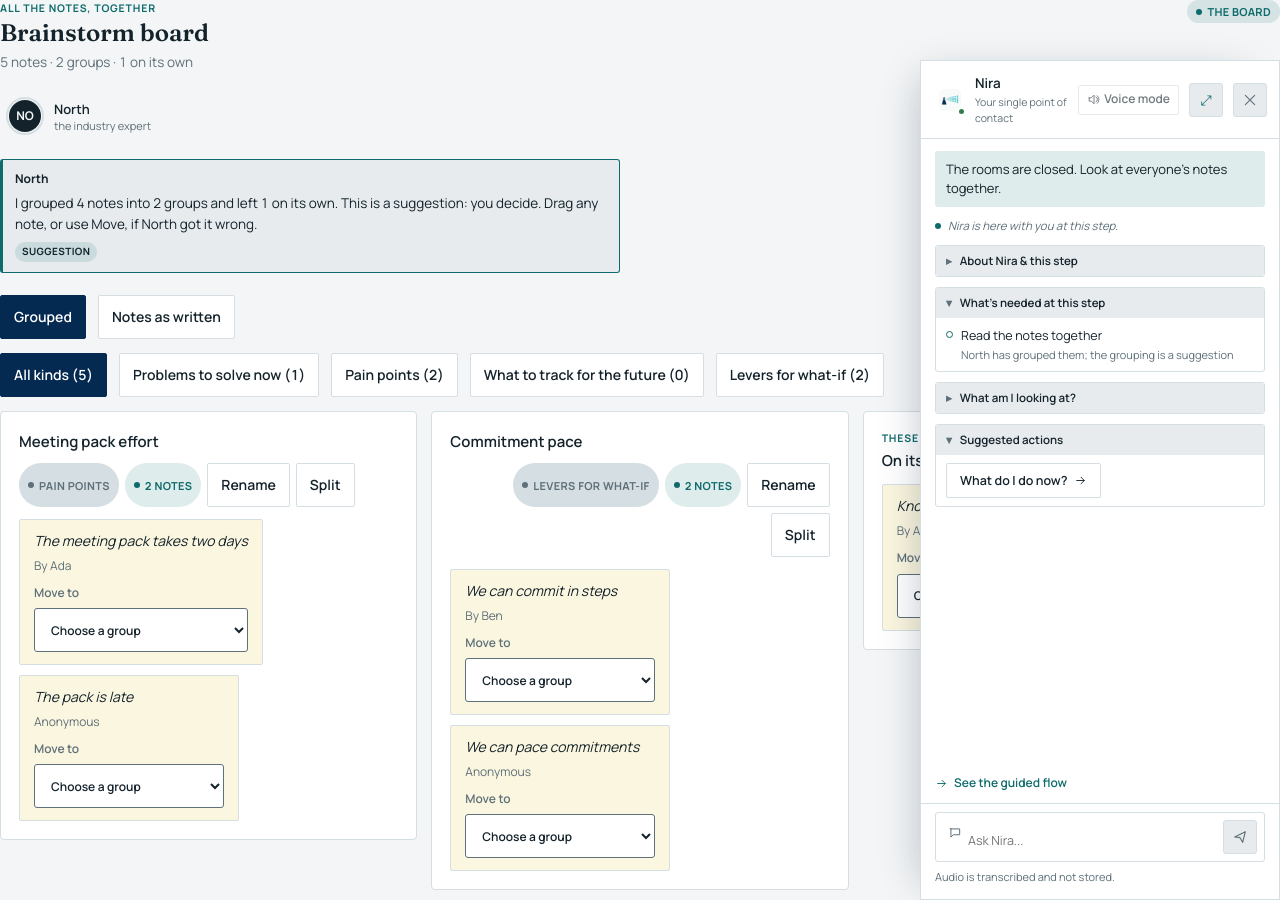
Scenario: the board: kinds › a tab shows only the groups and notes of that kind
Click the button "Levers for what-if (2)". click: (800, 375)
box: [716, 353, 884, 397]
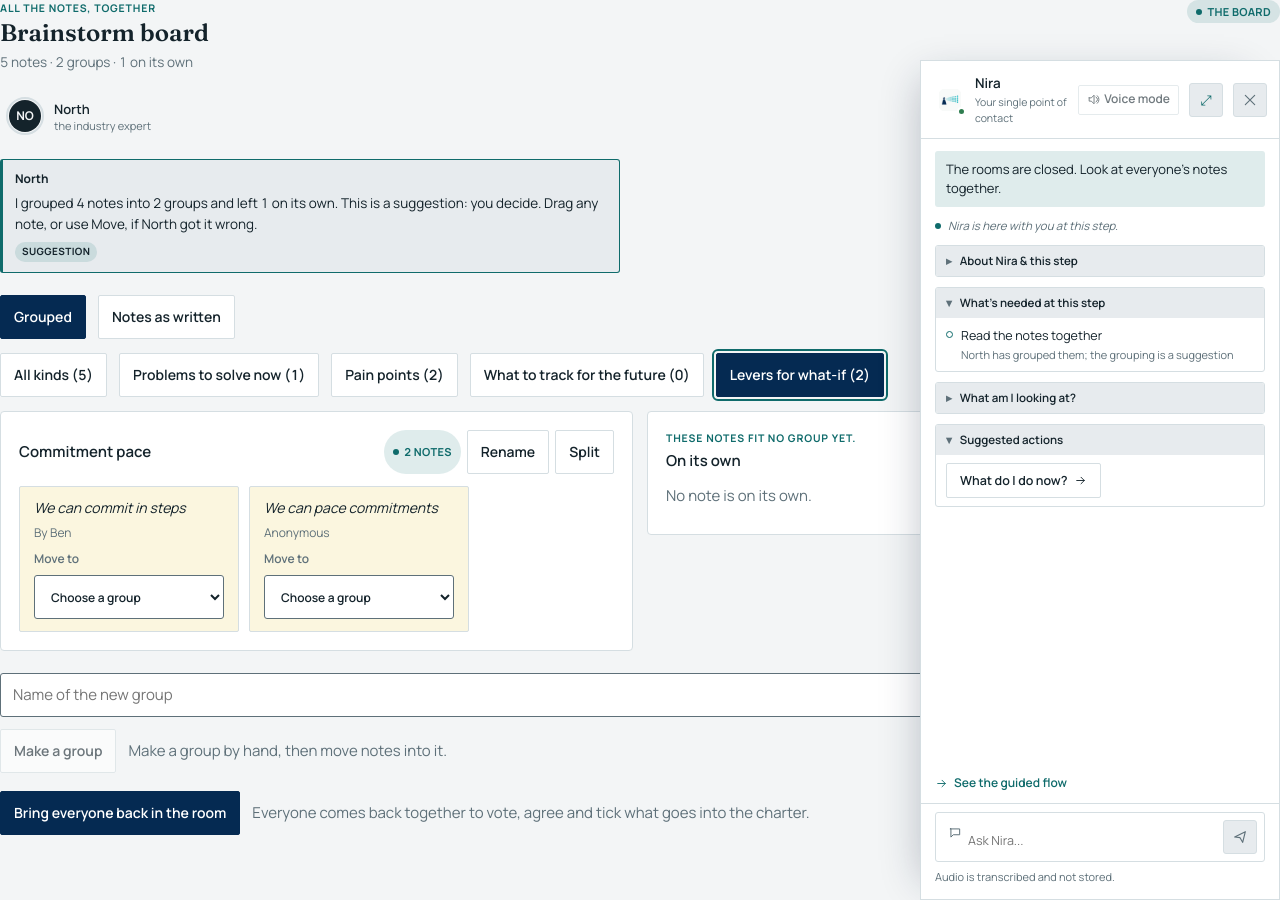
Expected: the heading "Commitment pace" is shown, [19, 440, 151, 464]
Result: the heading "Meeting pack effort" is gone
Result: the text "Know our headroom weekly" is gone
Click the button "What to track for the future (0)". click: (587, 375)
box: [470, 353, 704, 397]
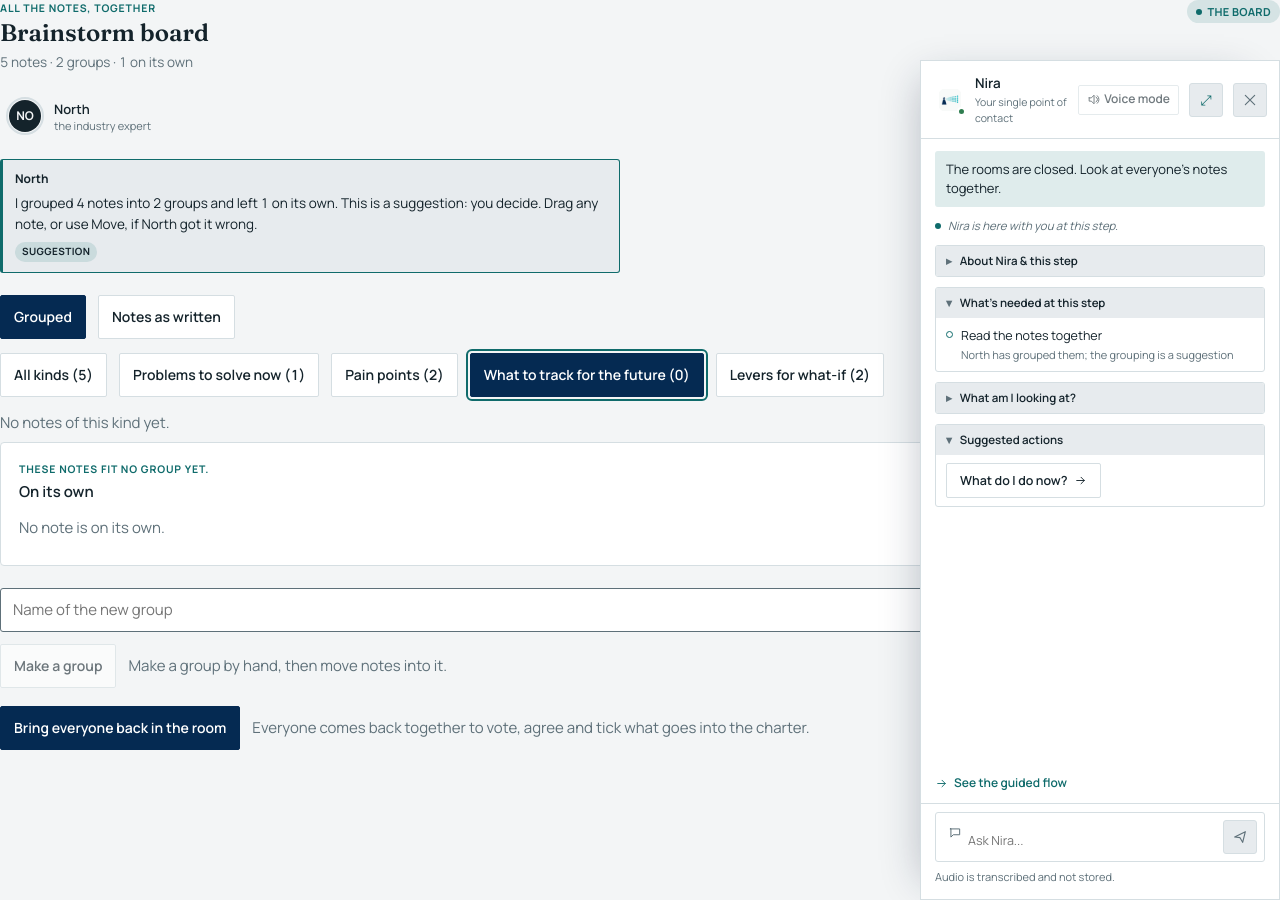
Result: the text "No notes of this kind yet." is shown at [0, 412, 170, 433]
